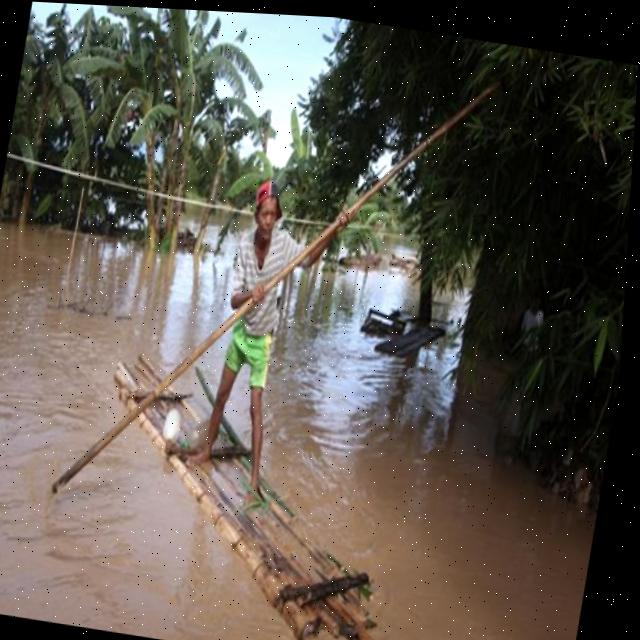civilian: (178, 164, 364, 516)
